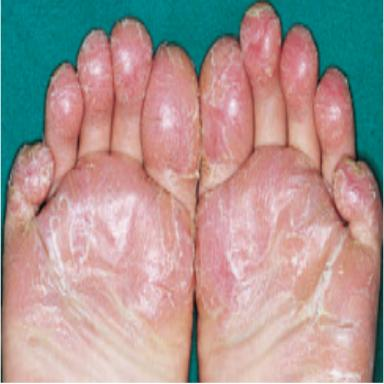eczema: (196, 4, 381, 383), (5, 45, 202, 338), (47, 17, 153, 142)
